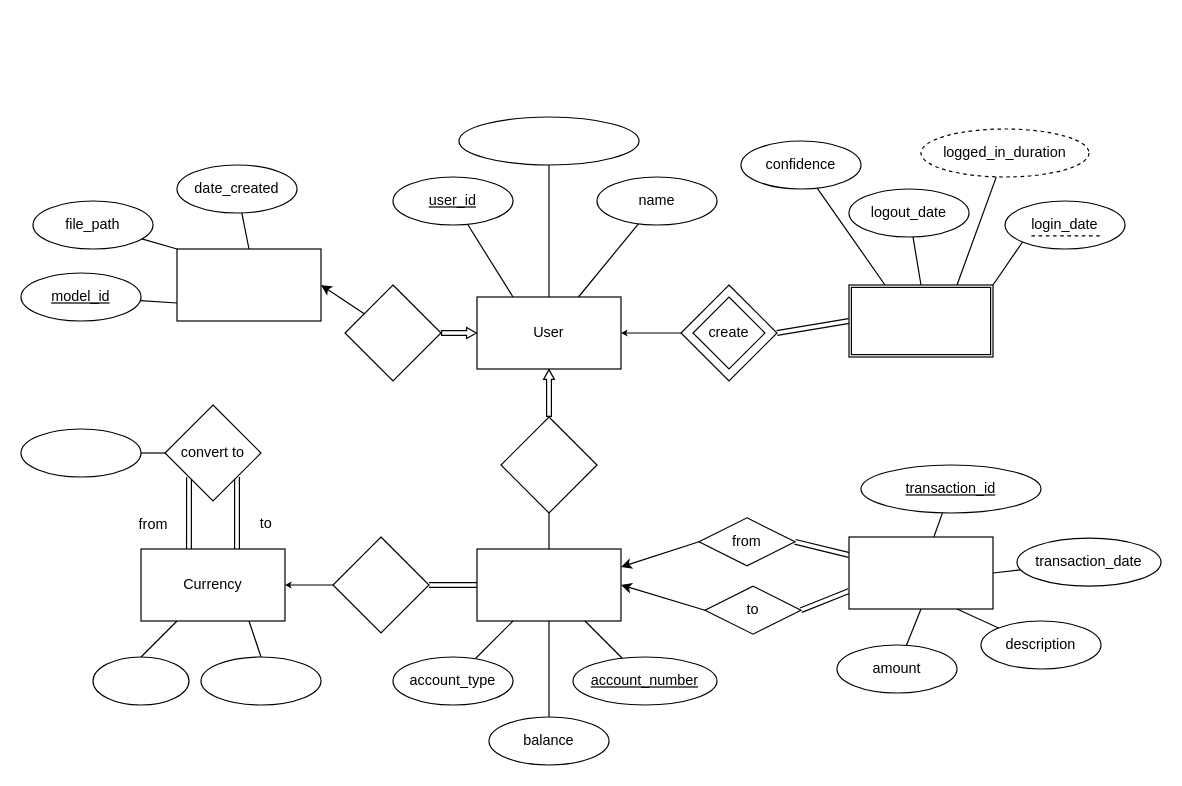
This 1182x786 diagram has some shape labels left out. The shapes that lost their labels are listed below. From the top down, each one's centre as x and y in pixels, then its label:
the point at 548,140: joined_date
the point at 248,284: RecognitionModel
the point at 392,332: belongs
the point at 920,320: LoginHistory
the point at 80,452: exchange_rate
the point at 548,464: owns
the point at 380,584: uses
the point at 548,584: Account
the point at 920,572: Transaction
the point at 140,680: symbol
the point at 260,680: currency_name
